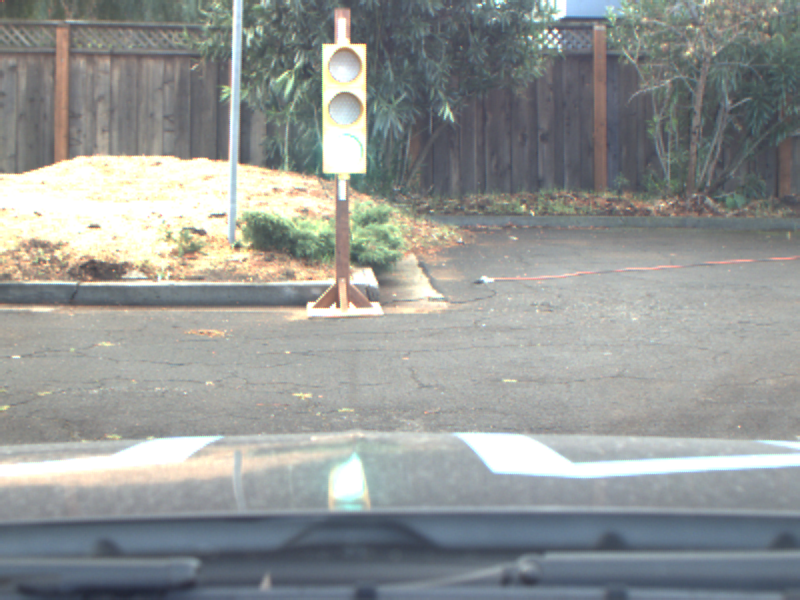Green: (321, 43, 366, 174)
